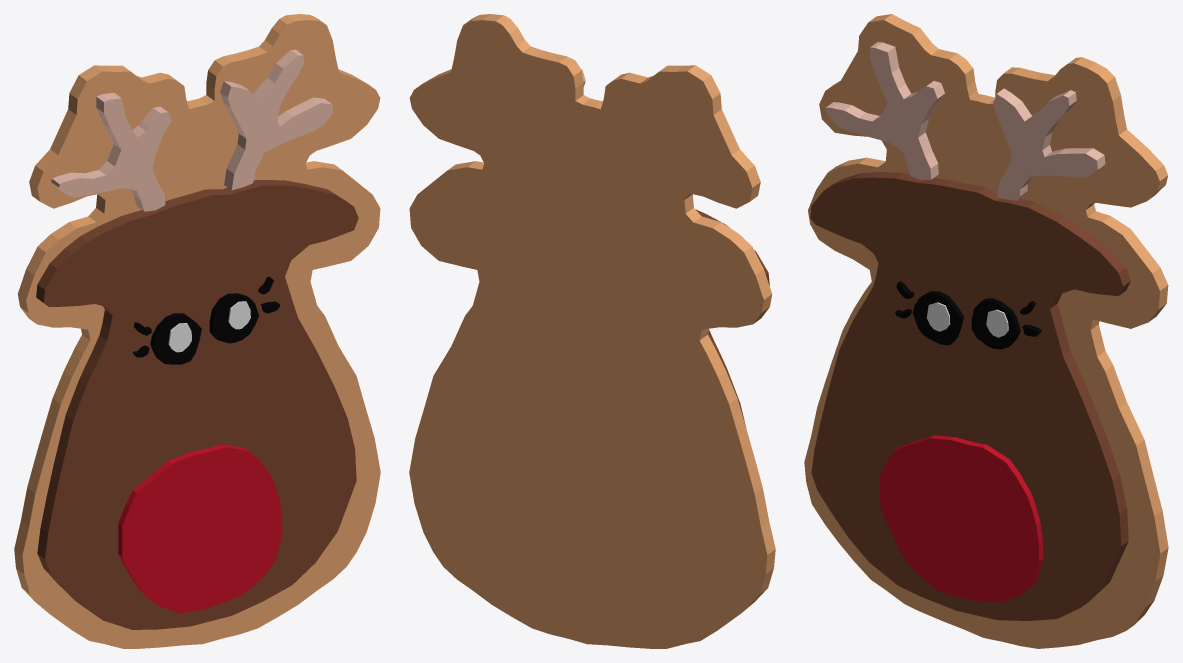
Rendered from Deer.glb.
3 views of the same model, side by side, from view 1: azimuth 30°, elevation 25°; view 2: azimuth 150°, elevation 25°; view 3: azimuth 330°, elevation 25° (orthographic).
Visible parts, largest first — view 1: Deer; view 2: Deer; view 3: Deer.
Part boxes in pixels (x1,y1,x2,y2): Deer: [14, 14, 380, 648]; Deer: [409, 14, 775, 648]; Deer: [804, 14, 1168, 648].
Bounding box in the file's own units: 0.3001 × 0.4807 × 0.0292.
